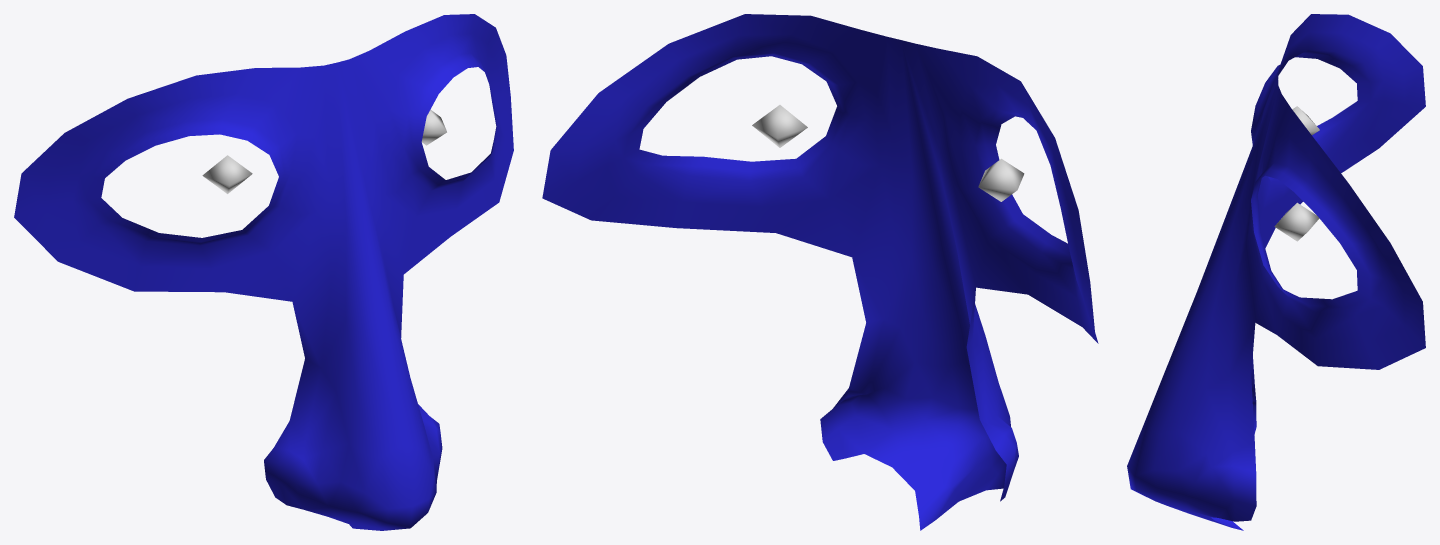
The model's file is Mask.fbx.
3 views of the same model, side by side, from view 1: azimuth 30°, elevation 25°; view 2: azimuth 150°, elevation 25°; view 3: azimuth 270°, elevation 25° (orthographic). The views are drawn at different scales.
Parts seen in each view (by area): view 1: Plane.003; view 2: Plane.003; view 3: Plane.003.
Boxes of the visible parts, box(x1,y1,x2,y2) form: Plane.003: box(14, 14, 513, 530); Plane.003: box(542, 14, 1098, 530); Plane.003: box(1127, 14, 1425, 530).
Bounding box in the file's own units: 5.67 × 5.03 × 2.97.
